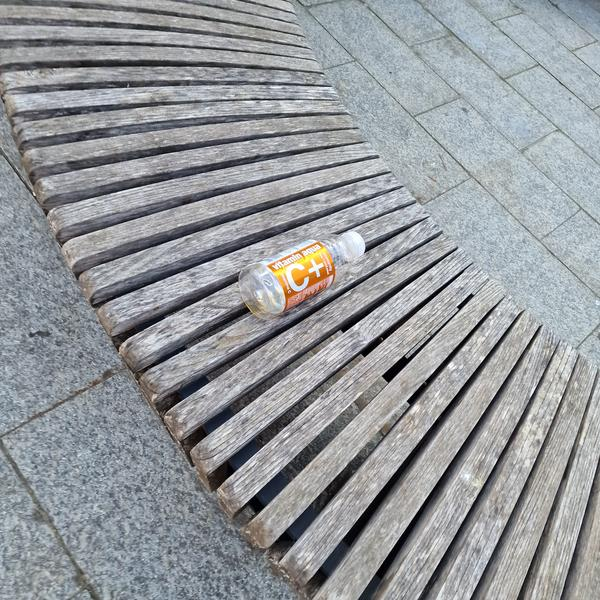plastic_bottle: (227, 210, 378, 329)
